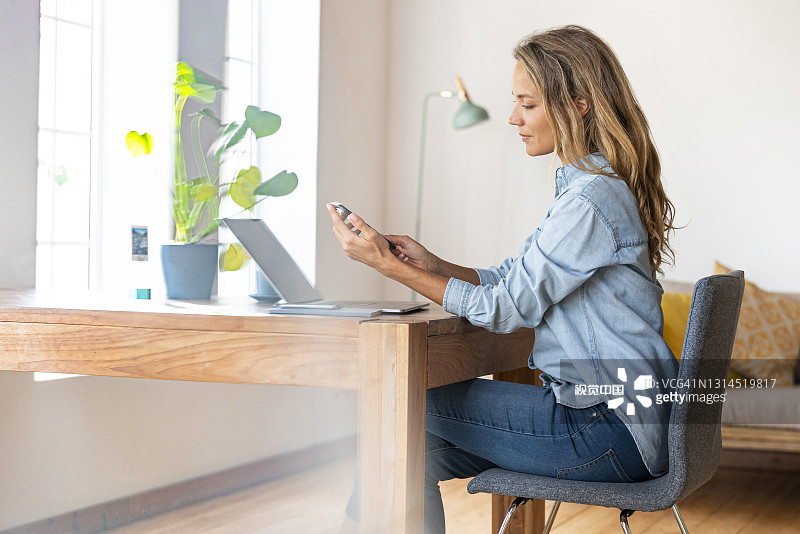reading: (315, 189, 442, 293)
